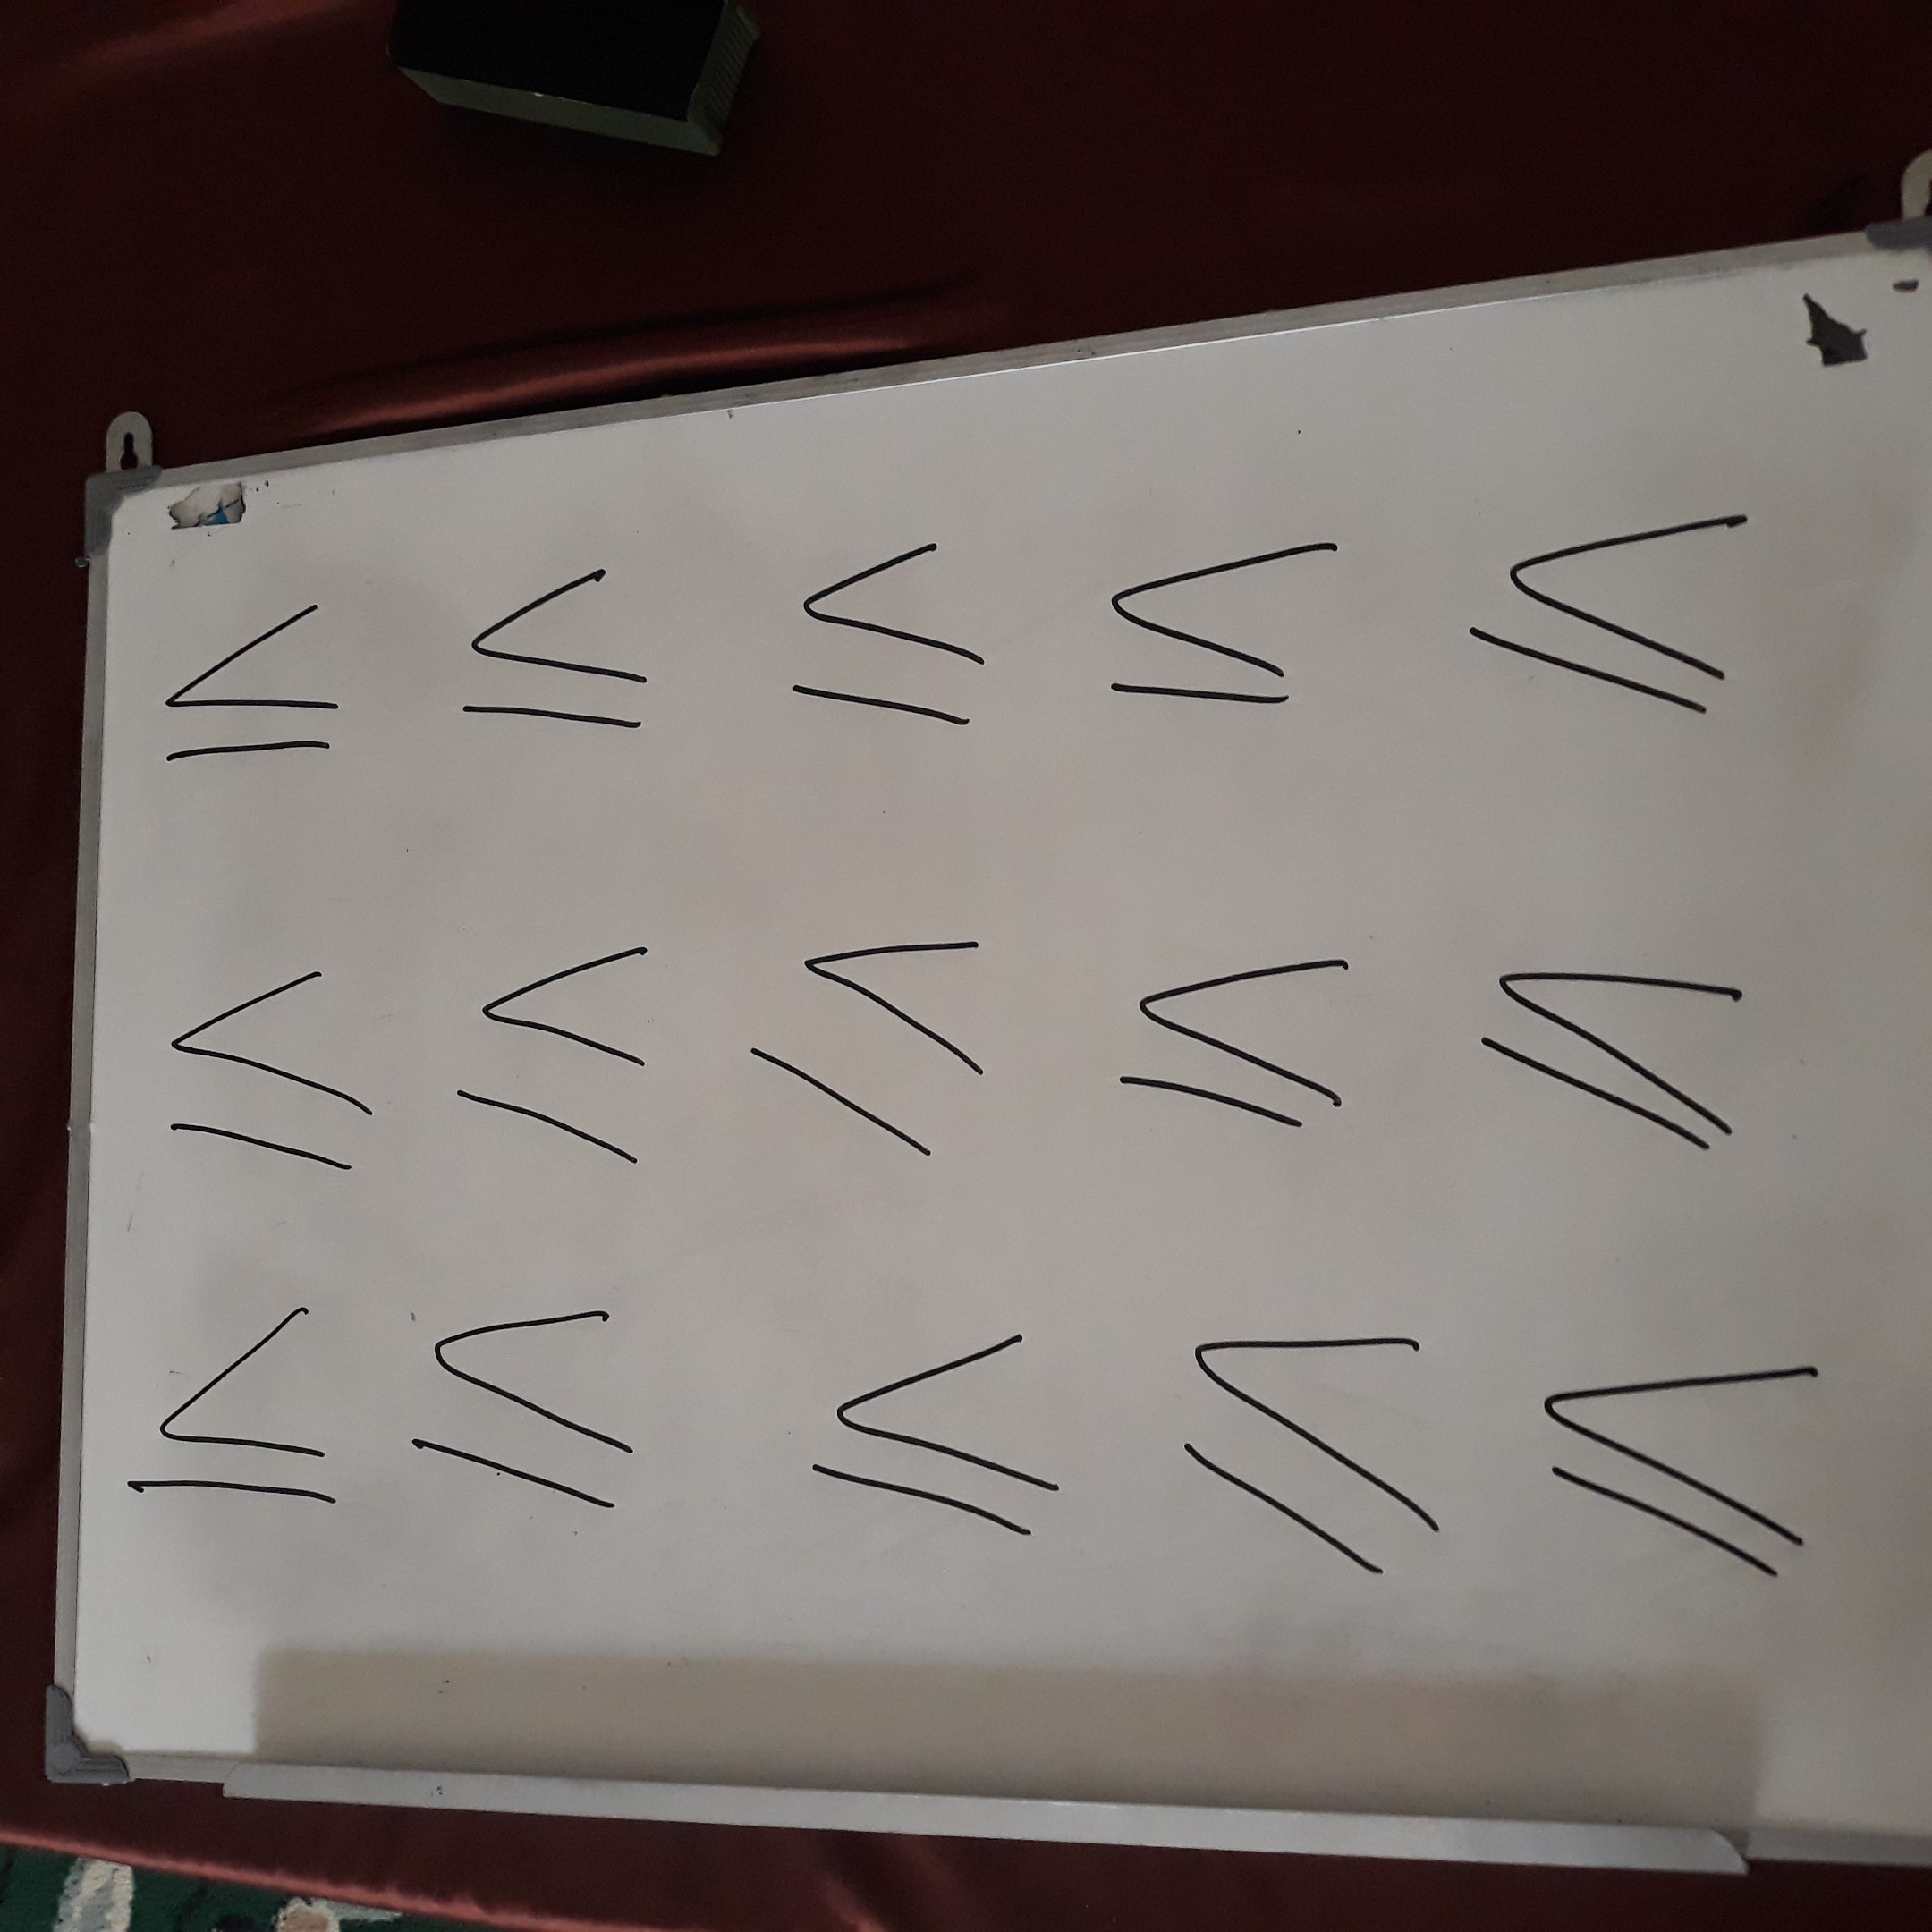lessthan-equal: (1156, 1310, 1465, 1596), (1534, 1314, 1843, 1599), (1454, 504, 1773, 730), (795, 1318, 1083, 1566), (743, 906, 1003, 1169), (1472, 942, 1771, 1169), (400, 1289, 662, 1537), (149, 951, 404, 1186), (1099, 940, 1376, 1150), (446, 927, 671, 1186), (109, 1289, 369, 1514), (1093, 527, 1357, 727), (781, 530, 1004, 735), (142, 588, 356, 778), (448, 555, 662, 745)
